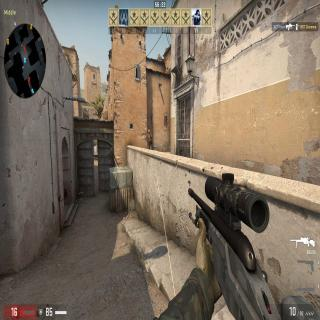T-Body: (146, 128, 152, 150)
T-Head: (148, 129, 150, 135)
